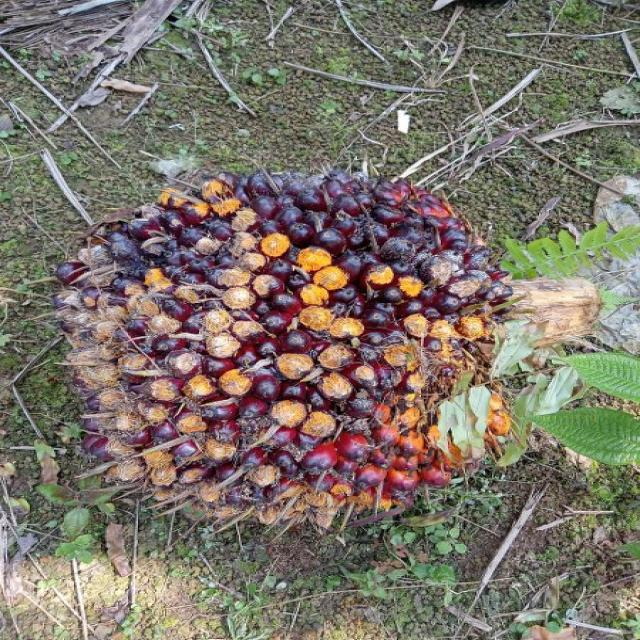fraksi 1: (57, 166, 523, 521)
